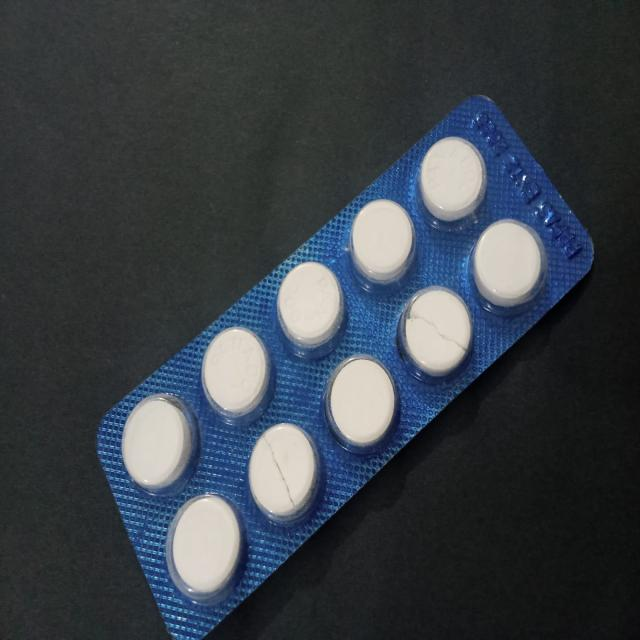defect: (245, 419, 326, 527), (398, 286, 474, 385)
